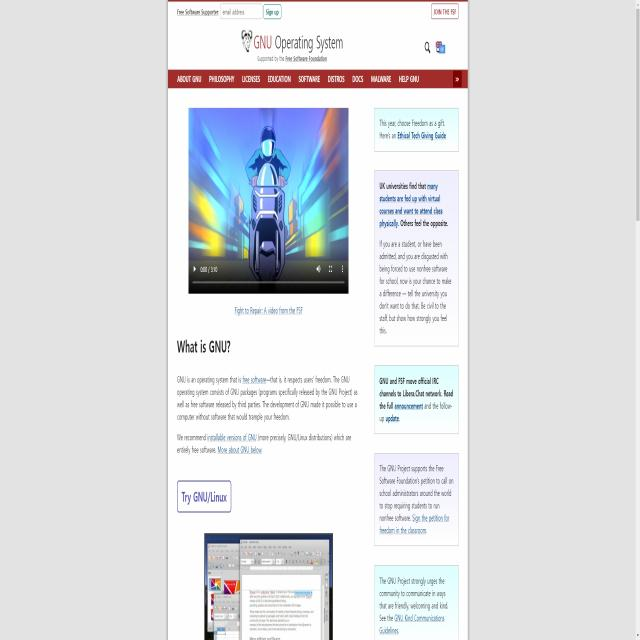side-panel: (372, 101, 461, 640)
tab-bar: (175, 69, 422, 86)
